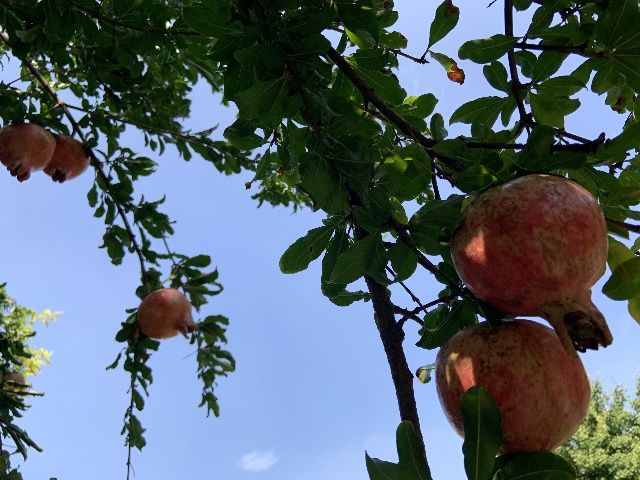ripe: (450, 173, 613, 357), (435, 319, 590, 454), (0, 122, 55, 182), (137, 288, 198, 339), (44, 134, 90, 183)
